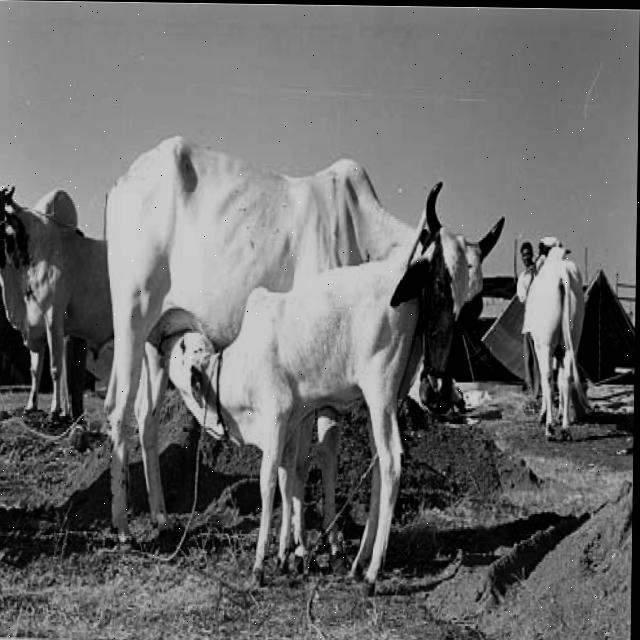Cow: (102, 88, 502, 506)
